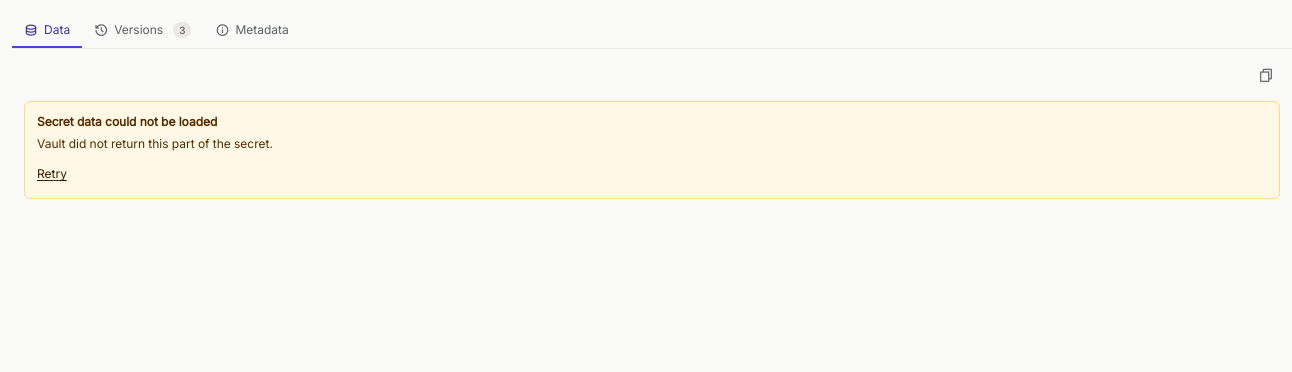
Test: Inspector copy helpers › keeps path copies available when the data cannot be read
Click the button named "Copy options". click: (1266, 75)
box: [1252,61,1280,89]
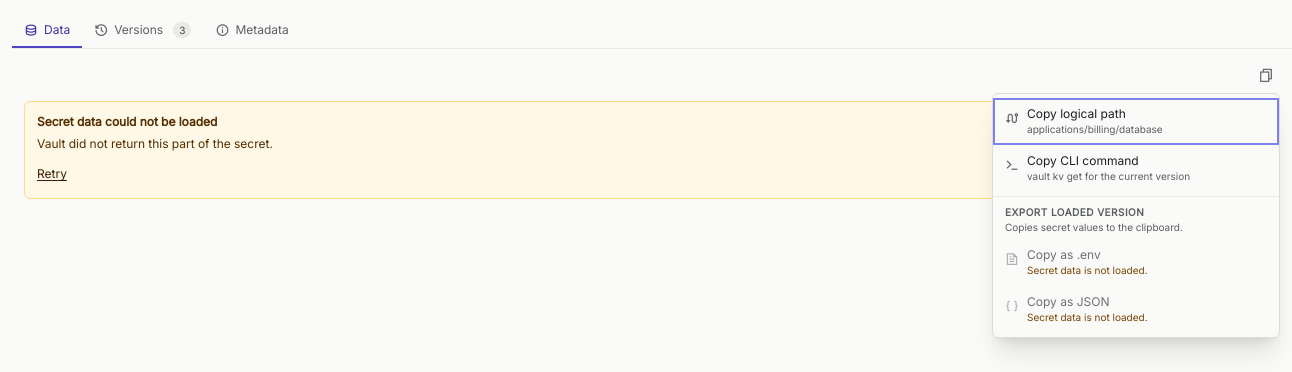
Result: the menu item "Copy logical path applications/billing/database" is enabled at [993,98,1279,145]
Result: the menu item "Copy as JSON Secret data is not loaded." is disabled at [993,286,1279,333]
